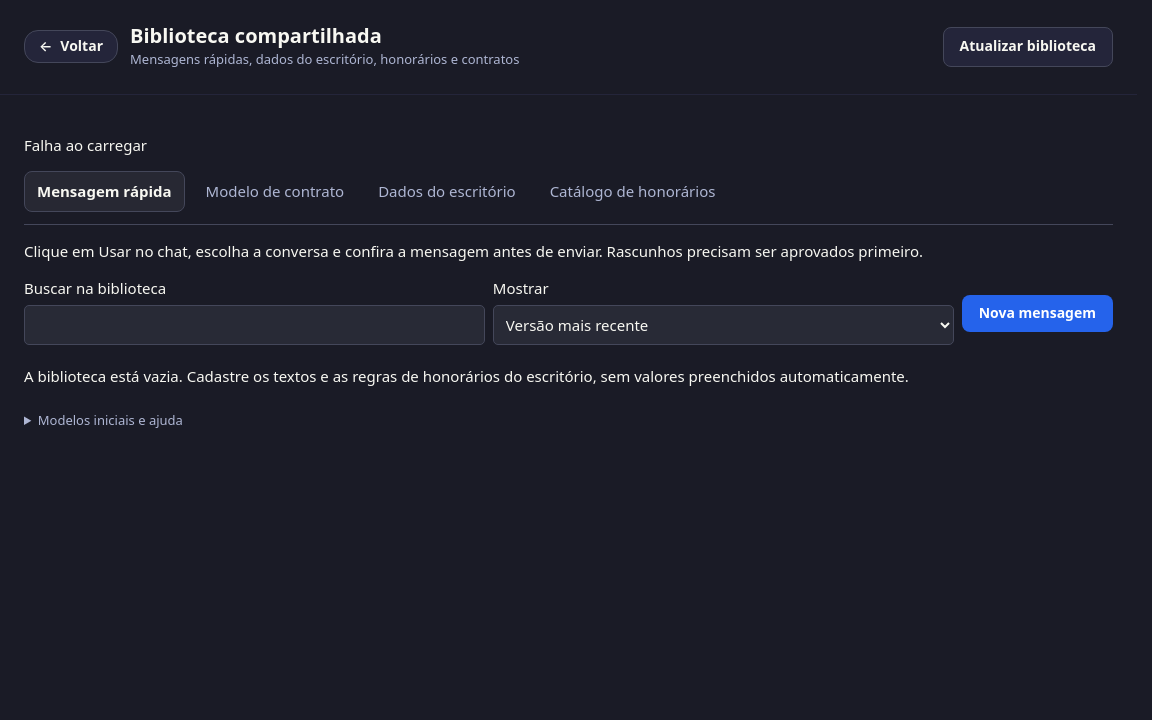
Test: página de gestão carrega os recursos existentes e permite recuperar uma falha
The image size is (1152, 720).
Expected: the message reads "Falha ao carregar", left=24, top=134, right=147, bottom=154
What coordinates should you click on to do the following:
click the button "Atualizar biblioteca"
I would click on:
 (1028, 47)
Its box is left=943, top=27, right=1113, bottom=67.
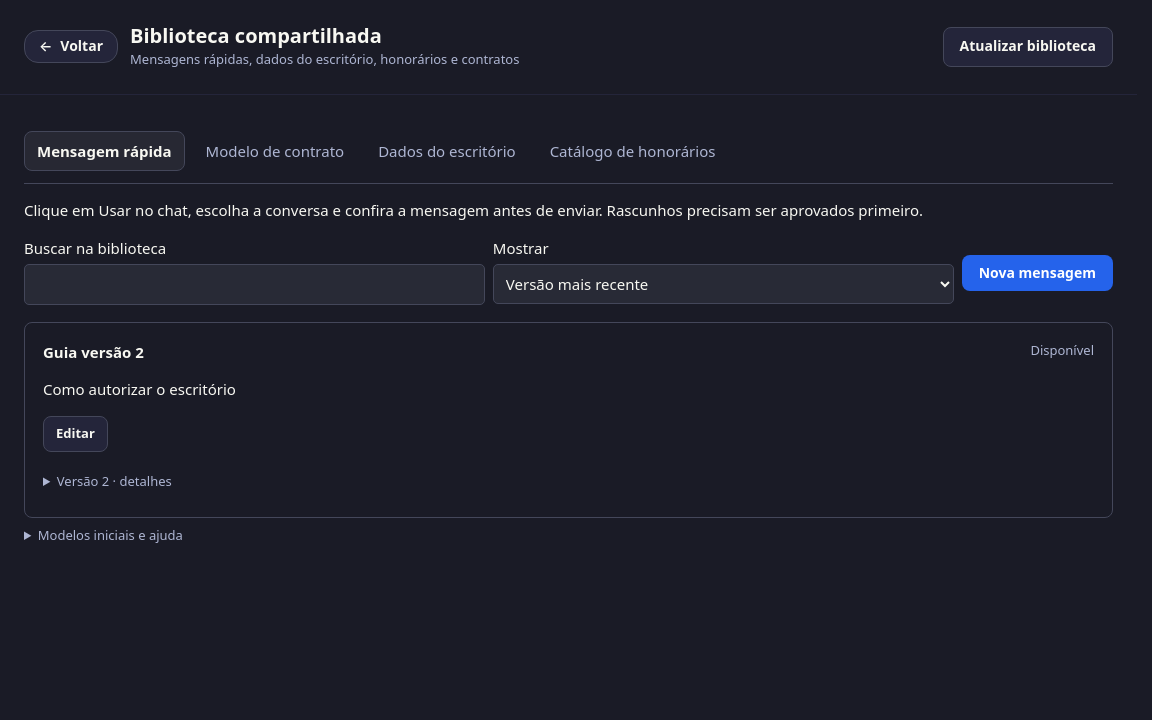
Expected: the button "Nova mensagem" is shown, left=962, top=254, right=1113, bottom=291
Now the text "Guia versão 2" is shown, box left=43, top=340, right=144, bottom=363
Now the message "Falha ao carregar" is gone
